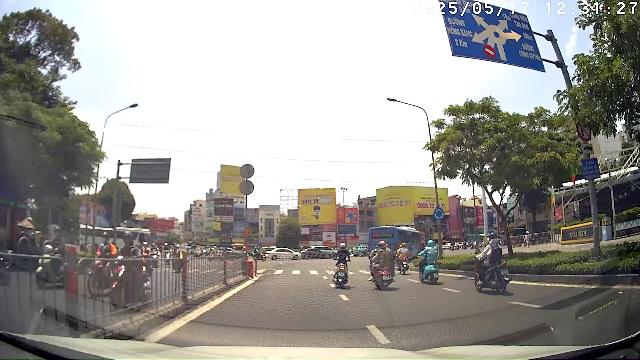303-noi-giao-nhau-chay-theo-vong-xuyen: (433, 207, 445, 220)
